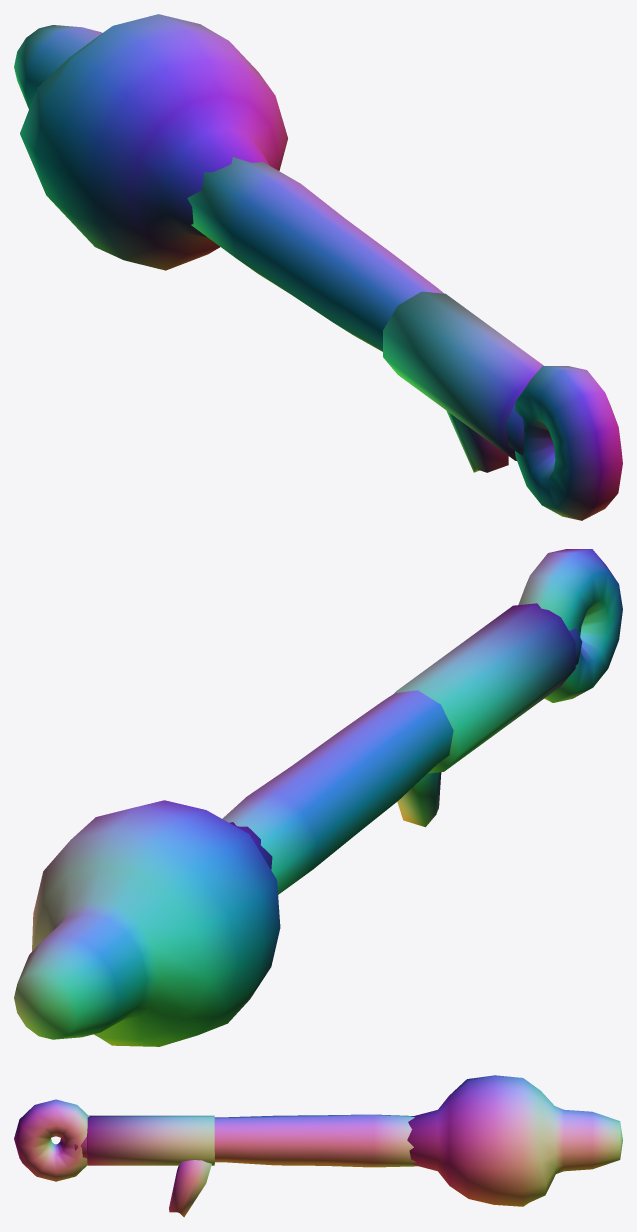
Rendered from SM_MonWeapon_BellClapper.fbx.
3 renders of one model, top to bottom at view 1: azimuth 30°, elevation 25°; view 2: azimuth 150°, elevation 25°; view 3: azimuth 270°, elevation 25°, orthographic. The views are drawn at different scales.
Visible parts, largest first — view 1: SM_MonWeapon_BellClapper; view 2: SM_MonWeapon_BellClapper; view 3: SM_MonWeapon_BellClapper.
Part boxes in pixels (x1=…): SM_MonWeapon_BellClapper: x1=14, y1=14, x2=622, y2=520; SM_MonWeapon_BellClapper: x1=14, y1=549, x2=622, y2=1046; SM_MonWeapon_BellClapper: x1=14, y1=1075, x2=622, y2=1217.
Bounding box in the file's own units: 0.1797 × 0.1884 × 0.8319.
